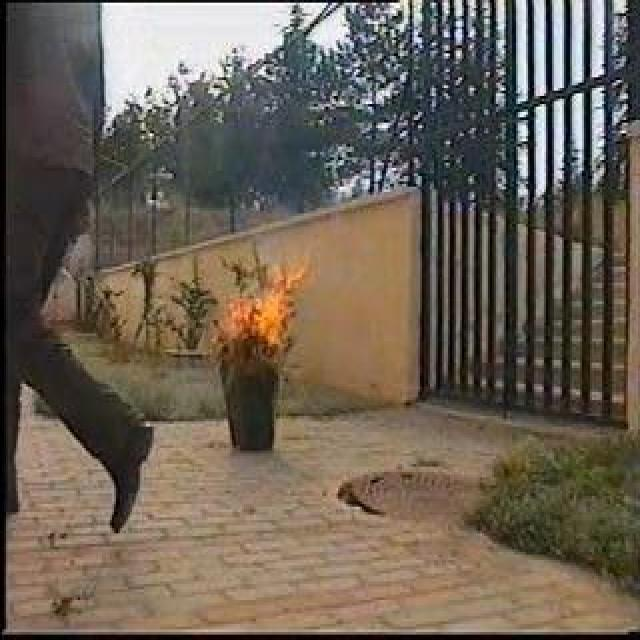fire: (205, 248, 315, 360)
smoke: (221, 98, 309, 242)
